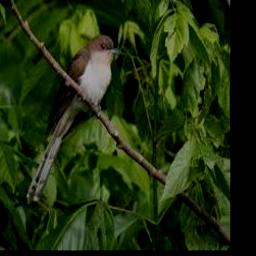Cuckoo: (24, 34, 119, 204)
